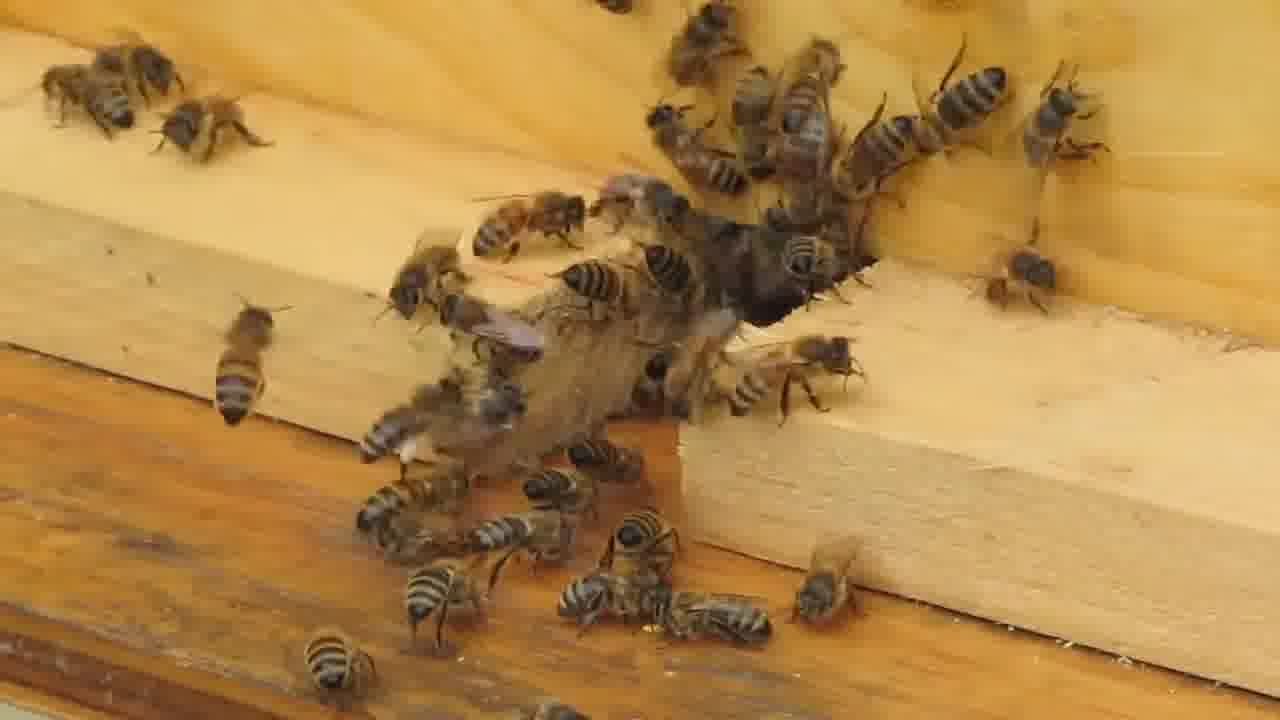pollen: (365, 372, 463, 479)
